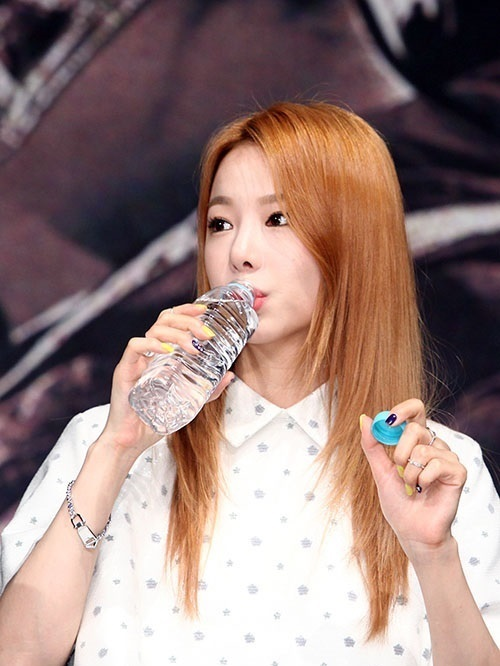face: (203, 138, 323, 344)
